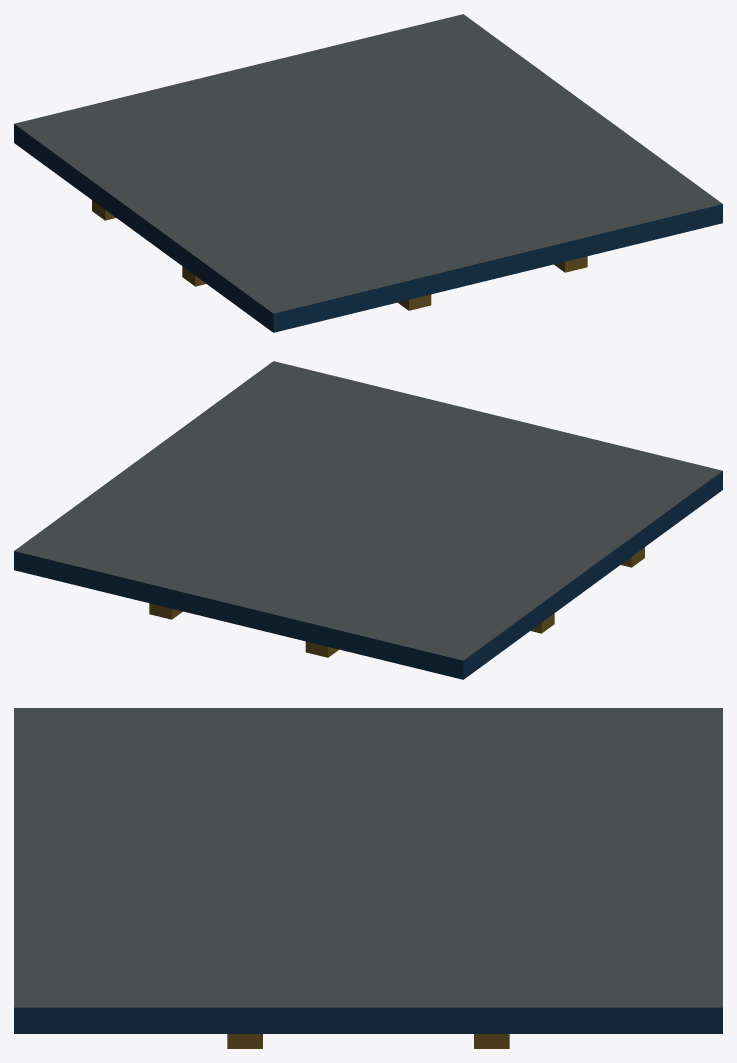
File: RoofPiece.fbx
The picture shows the model from 3 angles, top to bottom: view 1: azimuth 30°, elevation 25°; view 2: azimuth 150°, elevation 25°; view 3: azimuth 270°, elevation 25°; orthographic projection. The views are drawn at different scales.
Visible parts, largest first — view 1: pCube146; view 2: pCube146; view 3: pCube146.
Part boxes in pixels (x1,y1,x2,y2): pCube146: (14,14,722,332); pCube146: (14,361,722,679); pCube146: (14,708,722,1048).
Size of the model in its own units: 3 by 0.1925 by 3.
